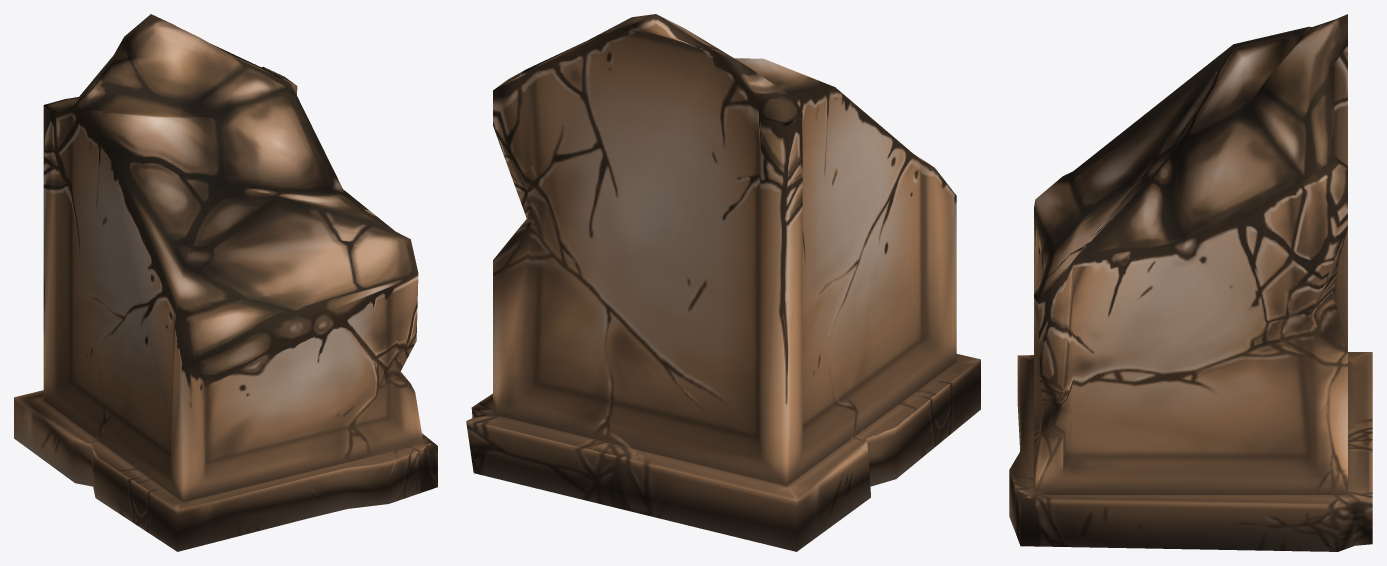
The model's file is colonnecassee.fbx.
3 views of the same model, side by side, from view 1: azimuth 30°, elevation 25°; view 2: azimuth 150°, elevation 25°; view 3: azimuth 270°, elevation 25° (orthographic). The views are drawn at different scales.
Parts seen in each view (by area): view 1: colonne_cassee; view 2: colonne_cassee; view 3: colonne_cassee.
Part boxes in pixels (x1=…): colonne_cassee: x1=14, y1=14, x2=437, y2=551; colonne_cassee: x1=466, y1=14, x2=980, y2=551; colonne_cassee: x1=1009, y1=14, x2=1372, y2=551.
Size of the model in its own units: 49.5 by 68.21 by 49.5.
1 material, 1 textured.
